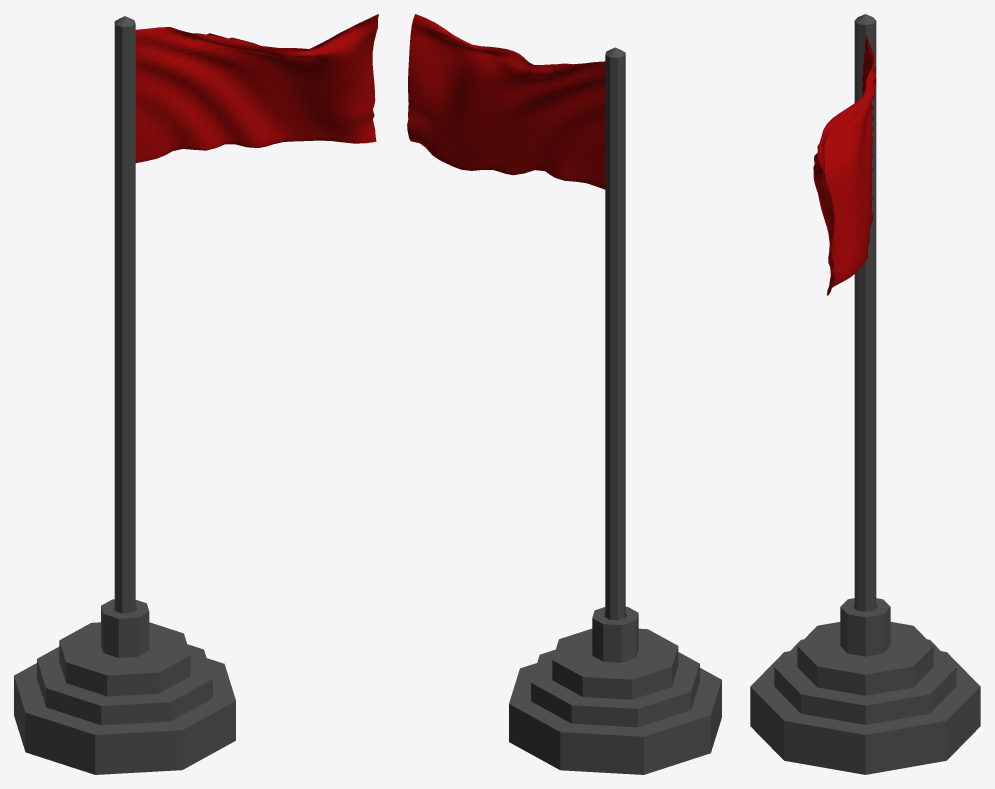
Rendered from red_flag.fbx.
3 renders of one model, left to right at view 1: azimuth 30°, elevation 25°; view 2: azimuth 150°, elevation 25°; view 3: azimuth 270°, elevation 25°, orthographic. The views are drawn at different scales.
Parts seen in each view (by area): view 1: polySurface3, polySurface4; view 2: polySurface3, polySurface4; view 3: polySurface4, polySurface3.
Part boxes in pixels (<box>): polySurface3: <box>114,14,378,613</box>; polySurface4: <box>14,16,235,774</box>; polySurface3: <box>407,14,625,620</box>; polySurface4: <box>509,47,721,774</box>; polySurface4: <box>750,14,980,774</box>; polySurface3: <box>813,21,876,611</box>.
Bounding box in the file's own units: 158 × 323 × 94.59.
